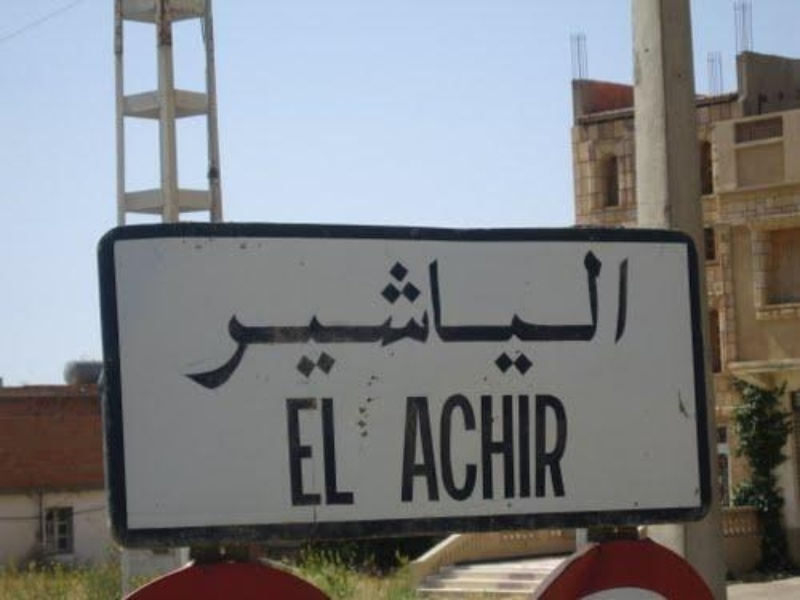text: (209, 247, 224, 391), (225, 247, 240, 391), (241, 247, 256, 391), (257, 247, 272, 391), (273, 247, 288, 391), (289, 247, 304, 391), (305, 247, 320, 391), (321, 247, 336, 391), (337, 247, 352, 391), (353, 247, 368, 391), (369, 247, 384, 391), (385, 247, 400, 391), (401, 247, 416, 391), (417, 247, 432, 391), (433, 247, 448, 391), (449, 247, 464, 391), (465, 247, 480, 391), (481, 247, 496, 391), (497, 247, 512, 391), (513, 247, 528, 391), (529, 247, 544, 391), (545, 247, 560, 391), (561, 247, 576, 391), (577, 247, 592, 391), (593, 247, 608, 391), (609, 247, 624, 391), (289, 394, 304, 506), (305, 394, 320, 506), (321, 394, 336, 506), (337, 394, 352, 506), (401, 391, 416, 503), (417, 391, 432, 503), (433, 391, 448, 503), (449, 391, 464, 503), (465, 391, 480, 503), (481, 391, 496, 503), (497, 391, 512, 503), (513, 391, 528, 503), (529, 391, 544, 503), (545, 391, 560, 503), (625, 247, 636, 391), (561, 391, 572, 503), (204, 247, 208, 391), (285, 394, 288, 506), (353, 394, 354, 506), (399, 391, 400, 503)
